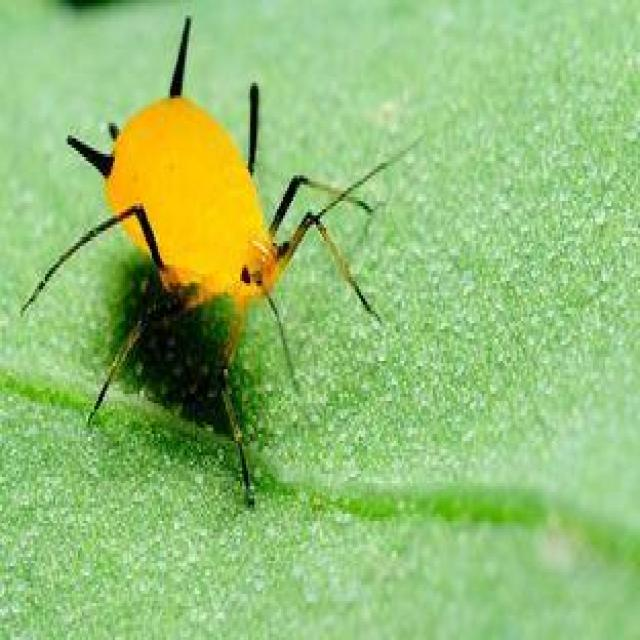Aphids: (16, 23, 414, 503)
